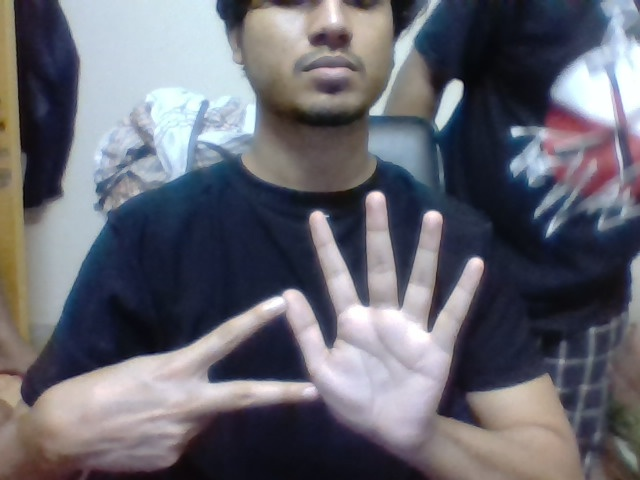N: (197, 296, 285, 418)
